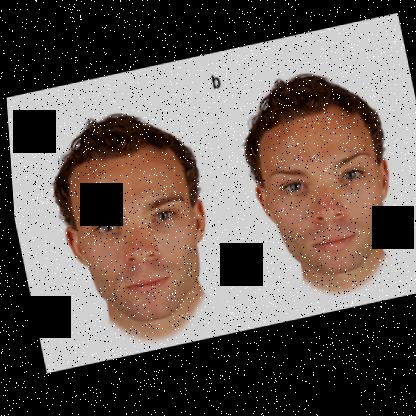Male: (45, 140, 221, 337), (237, 97, 404, 289)
